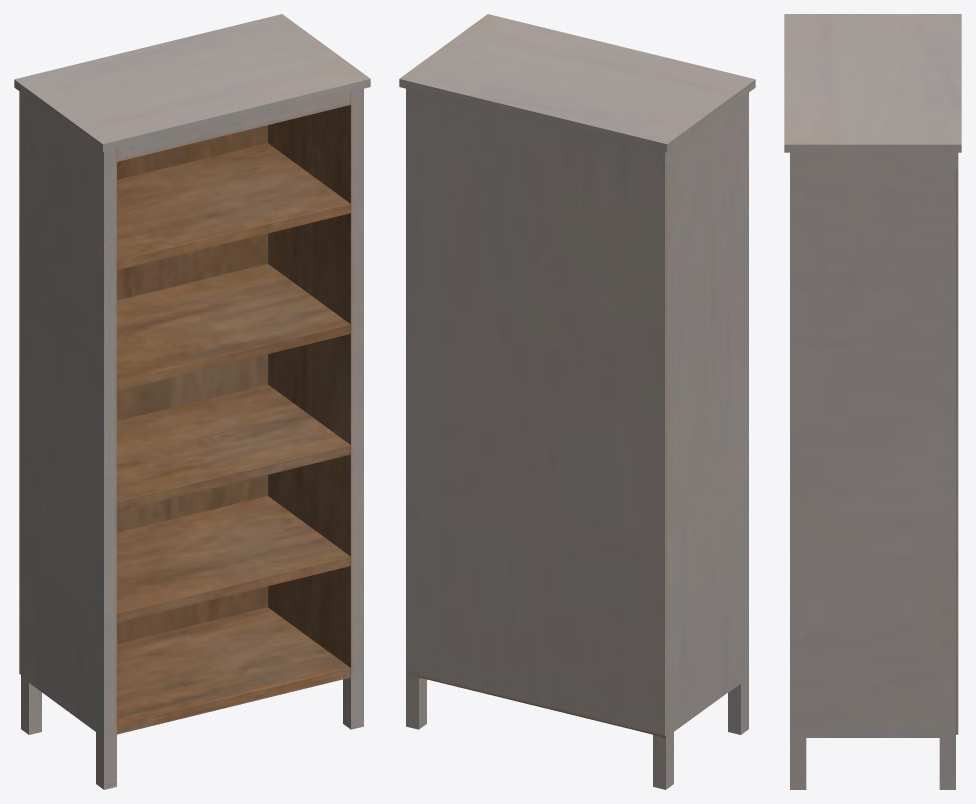
File: modern-shelf.glb
3 views of the same model, side by side, from view 1: azimuth 30°, elevation 25°; view 2: azimuth 150°, elevation 25°; view 3: azimuth 270°, elevation 25° (orthographic).
Visible parts, largest first — view 1: Object_30; view 2: Object_30; view 3: Object_30.
Boxes of the visible parts, x1,y1,x2,y2 form: Object_30: (14, 14, 370, 789); Object_30: (399, 14, 755, 789); Object_30: (784, 14, 961, 789).
Bounding box in the file's own units: 0.9111 × 2.11 × 0.5222.
Materials: 1 (1 with a texture image).
